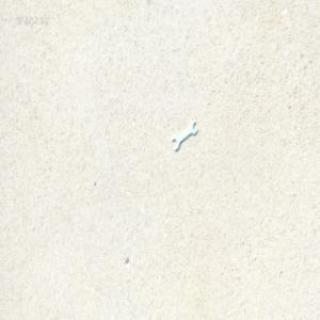Wrenchtrack_idkeyframe: (171, 122, 197, 154)
